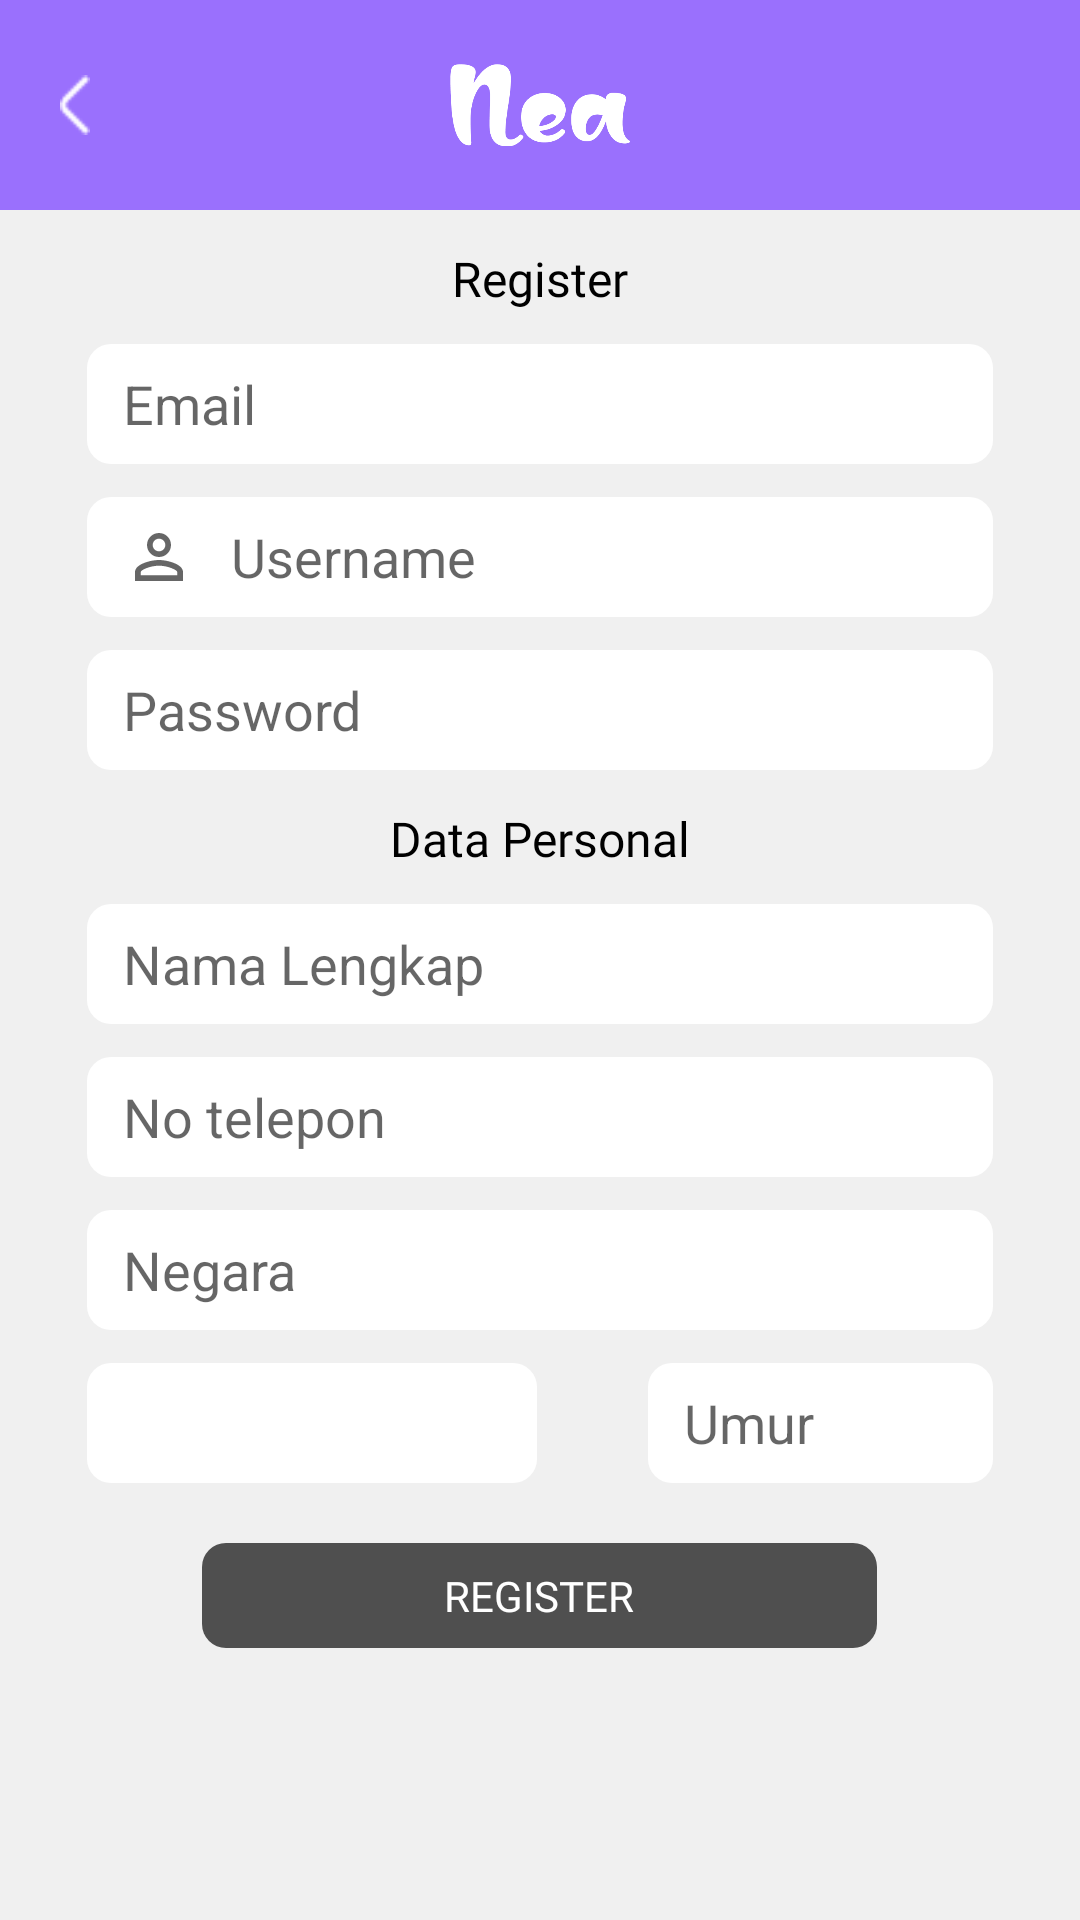

Screen size 1080x1920. Icon name, then its box in pixels as (x1, y1, x2, y2):
back: (60, 75, 90, 135)
